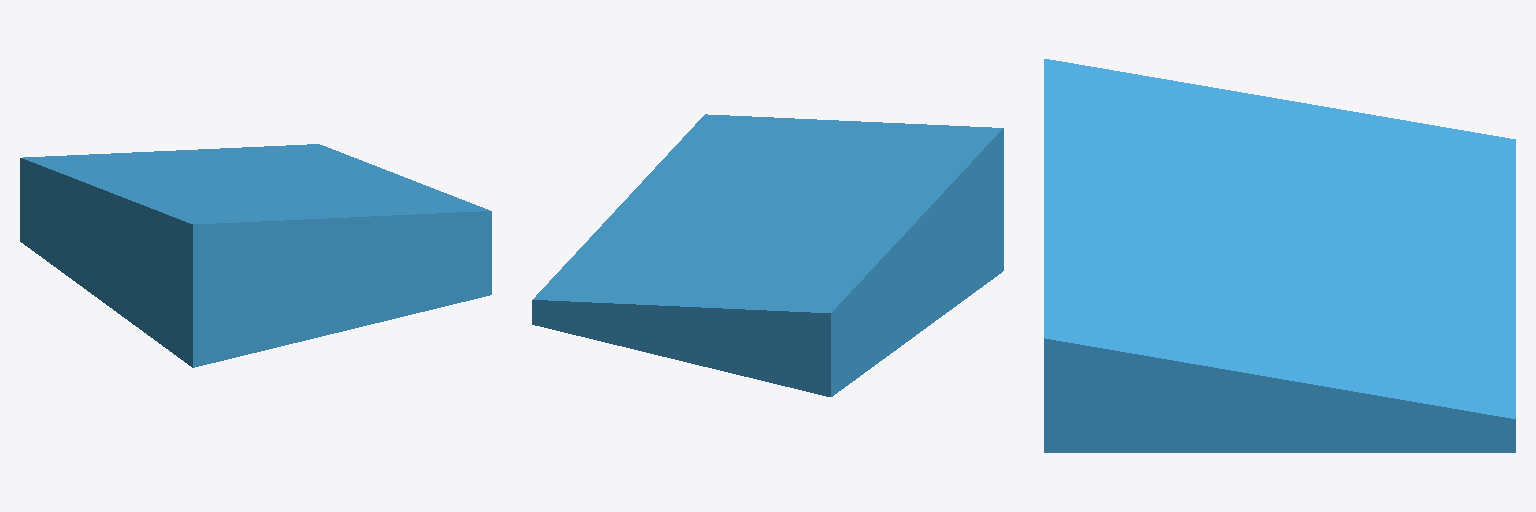
URDF robot description (diag_Y_positive_15_size_30):
<?xml version="1.0" ?>
<robot name="diag_Y_positive_15_size_30">
<!-- Used for fixing robot to Gazebo 'base_link' -->

<link name="world"/>

  <joint name="fixed" type="fixed">
    <parent link="world"/>
    <child link="diag_Y_positive_15_lifted_size_30__link"/>
  </joint>

  <link name="diag_Y_positive_15_lifted_size_30__link">
    <inertial>
      <mass value="10"/>
      <inertia ixx="1.0" ixy="0.0" ixz="0.0" iyy="1.0" iyz="0.0" izz="1.0"/>
    </inertial>
    <collision>
      <geometry>
         <mesh filename="package://pal_gazebo_worlds/models/diag_Y_positive_15_lifted_size_30/meshes/diag_Y_positive_15_degree_slope_lifted_size_30.stl" scale="0.00999 0.00999 0.00999"/>
      </geometry>
      <surface>
        <friction>
          <ode>
            <mu1 value="1.0" />
            <mu2 value="1.0" />
            <kp  value="1e5" />
            <kd  value="1e2" />
            <maxVel  value="100.0" />
            <minDepth  value="0.0" />
            <dampingFactor>0.01</dampingFactor>
          </ode>
        </friction>
      </surface>
    </collision>
    <visual>
      <geometry>
        <mesh filename="package://pal_gazebo_worlds/models/diag_Y_positive_15_lifted_size_30/meshes/diag_Y_positive_15_degree_slope_lifted_size_30.stl" scale="0.00999 0.00999 0.00999"/>
      </geometry>
      <material name="white">
      </material>
    </visual>
  </link>



</robot>

--- What the picture shows (computed from the rendered views, not written in the file) ---
The picture shows the robot from 3 angles, left to right: view 1: azimuth 30°, elevation 25°; view 2: azimuth 150°, elevation 25°; view 3: azimuth 270°, elevation 25°; orthographic projection.
Robot: diag_Y_positive_15_size_30 — 2 links, 1 joints (1 fixed); root link world; default pose: every joint at zero.
Visible links, largest first — view 1: diag_Y_positive_15_lifted_size_30__link; view 2: diag_Y_positive_15_lifted_size_30__link; view 3: diag_Y_positive_15_lifted_size_30__link.
Link boxes in pixels (x1=…): diag_Y_positive_15_lifted_size_30__link: x1=20, y1=144, x2=491, y2=367; diag_Y_positive_15_lifted_size_30__link: x1=532, y1=114, x2=1003, y2=396; diag_Y_positive_15_lifted_size_30__link: x1=1044, y1=59, x2=1515, y2=452.
Bounding box of the posed robot: 0.2997 × 0.2997 × 0.1375 m (x, y, z).
Meshes: 1 distinct files referenced, 1 mesh visuals loaded (1 binary STL).